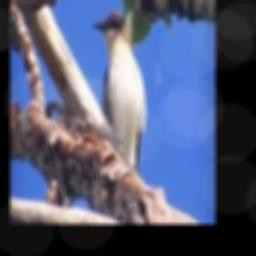Cuckoo: (90, 11, 146, 170)
